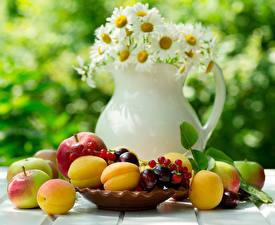chamomile: (108, 5, 144, 35), (90, 22, 117, 52), (130, 41, 158, 68), (152, 30, 177, 59), (132, 7, 157, 35), (88, 39, 112, 67), (184, 22, 204, 53), (111, 40, 130, 65), (176, 59, 199, 76), (205, 54, 216, 79)
